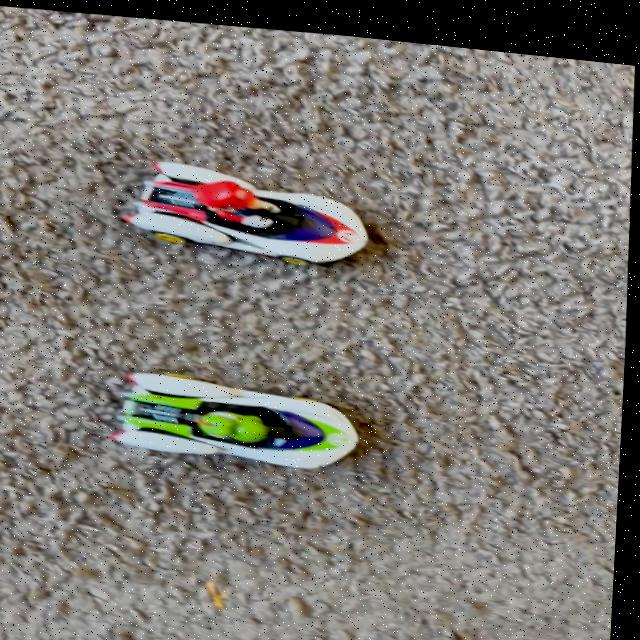mario: (95, 134, 396, 279)
yoshi: (98, 330, 384, 483)
